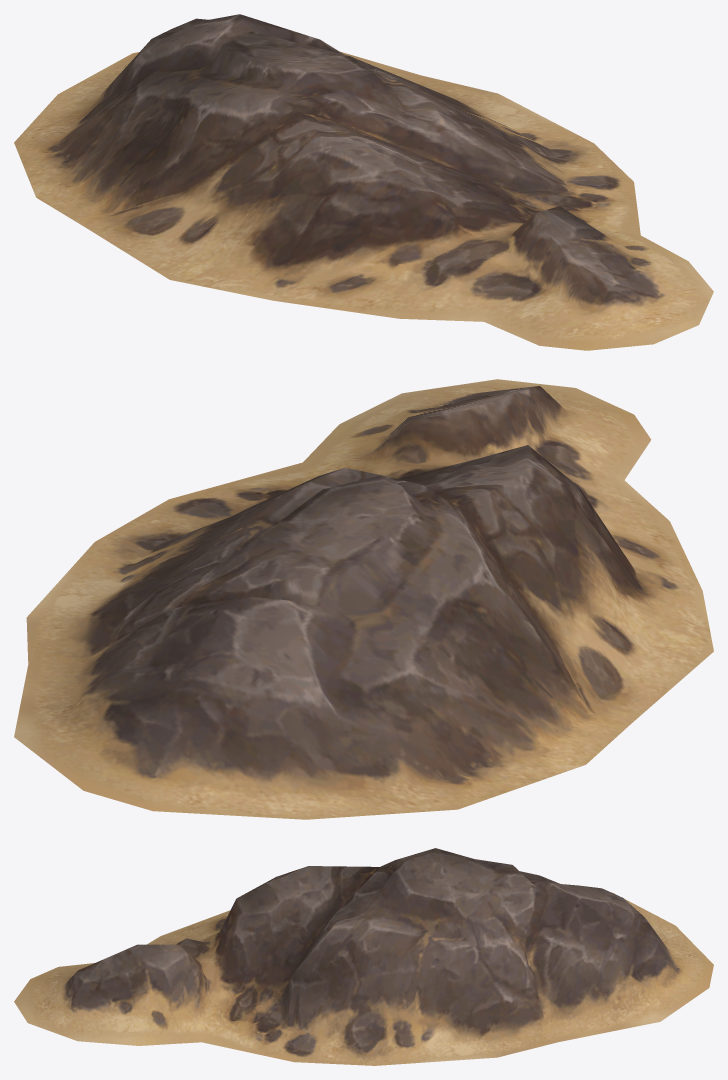
The model's file is sm_shitou_5.FBX.
3 views of the same model, one above another, from view 1: azimuth 30°, elevation 25°; view 2: azimuth 150°, elevation 25°; view 3: azimuth 270°, elevation 25° (orthographic). The views are drawn at different scales.
Parts seen in each view (by area): view 1: sm_shitou_5; view 2: sm_shitou_5; view 3: sm_shitou_5.
Boxes of the visible parts, x1=… form: sm_shitou_5: x1=14, y1=14, x2=713, y2=350; sm_shitou_5: x1=14, y1=379, x2=713, y2=819; sm_shitou_5: x1=14, y1=848, x2=713, y2=1065.
Bounding box in the file's own units: 106 × 26.14 × 166.
